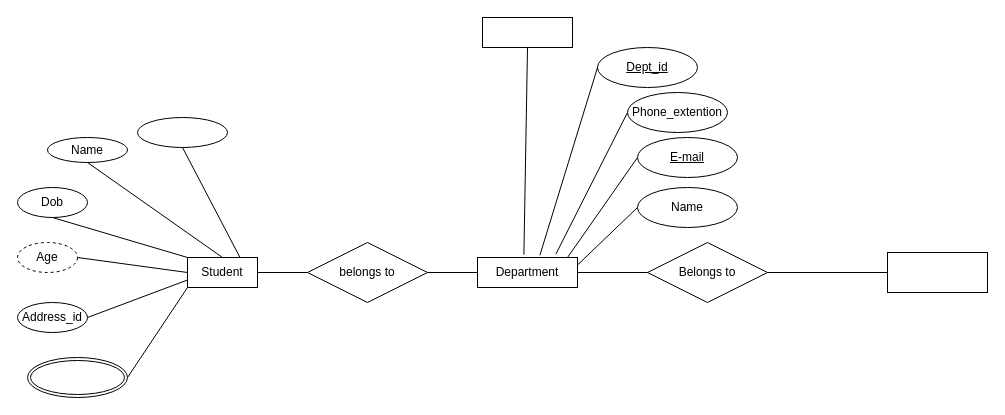
The diagram is 1005 pixels wide and 415 high, and some of its shapes have lost their labels. Each missing label, with the box of its shape:
Faculty: (886, 252, 988, 292)
Phone_Number: (26, 356, 128, 398)
Student_Id: (136, 116, 228, 148)
University: (482, 16, 572, 48)
